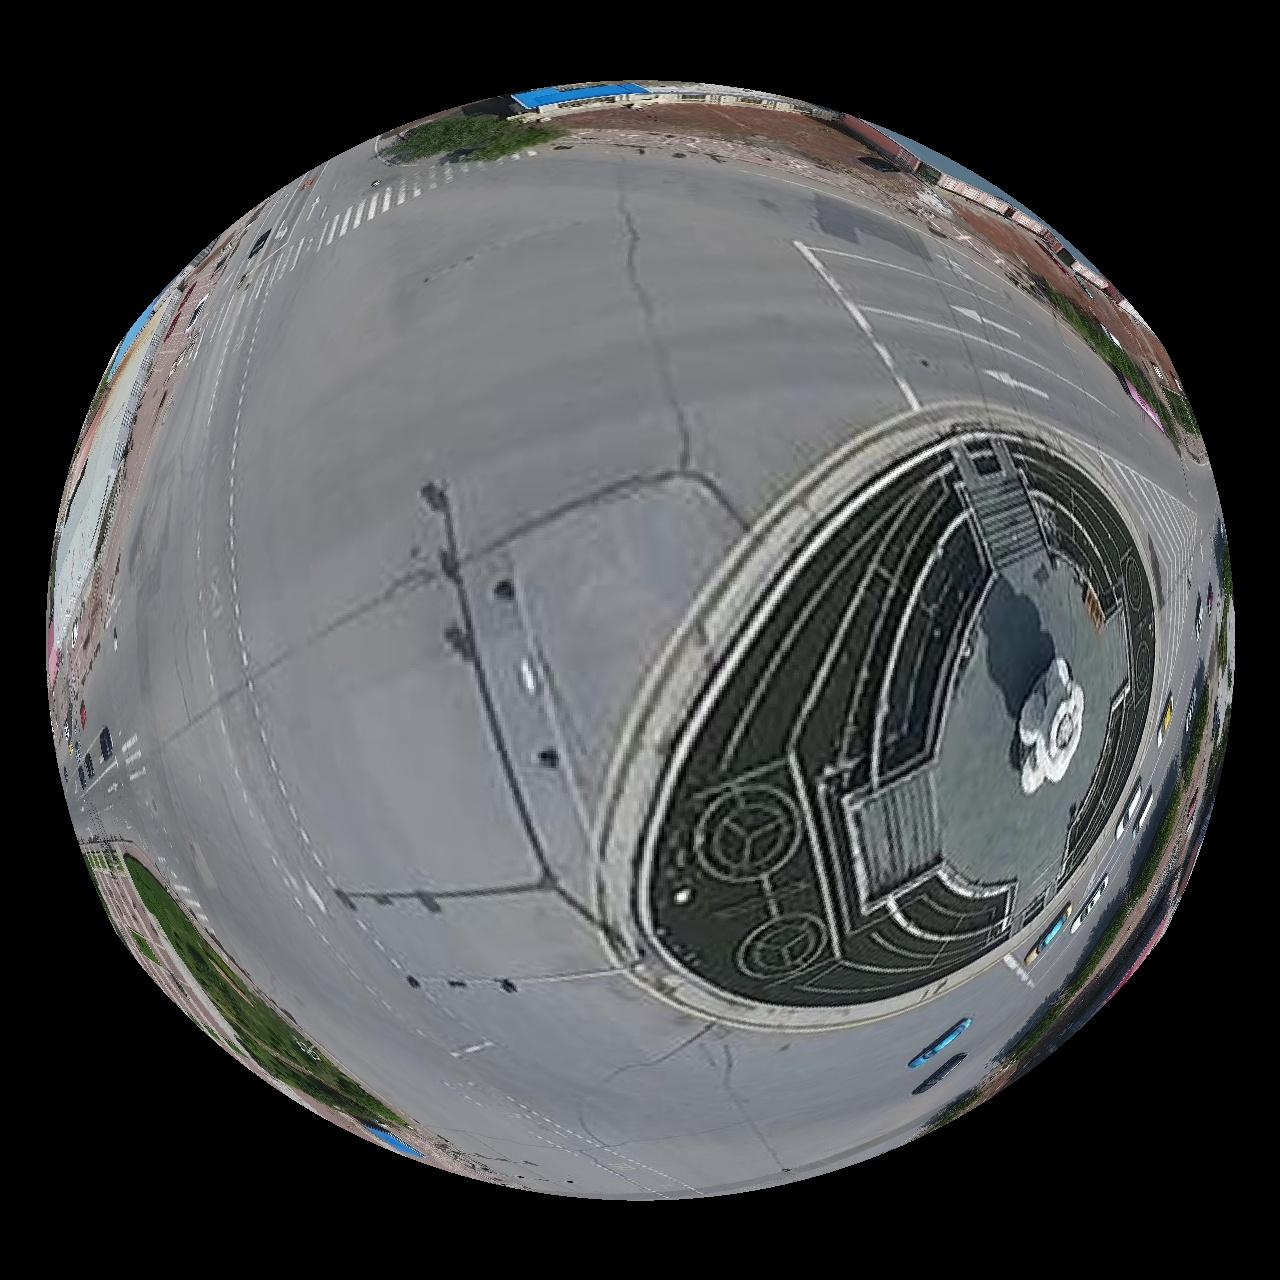building: (841, 113, 1151, 328), (509, 81, 845, 120)
cars: (909, 1020, 975, 1070), (913, 1054, 968, 1096)
trees: (123, 856, 419, 1158), (383, 113, 567, 161)
